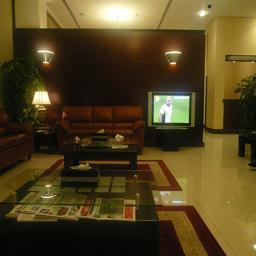pottedplant: (4, 80, 89, 182), (236, 109, 256, 202)
sofa: (112, 153, 256, 220), (1, 158, 68, 255)
tvmonitor: (207, 131, 256, 193)
